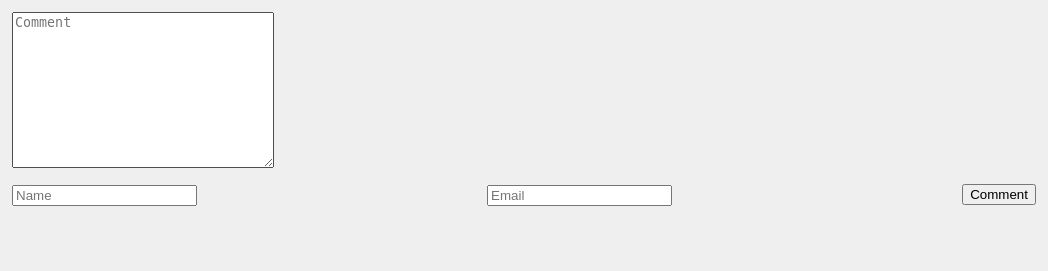
Test case: comments form › rendering errors when providing insufficient values
Type "random comment" into the text box with placeholder "Comment".
click(143, 90); type("random comment")  # box [12,12,274,168]
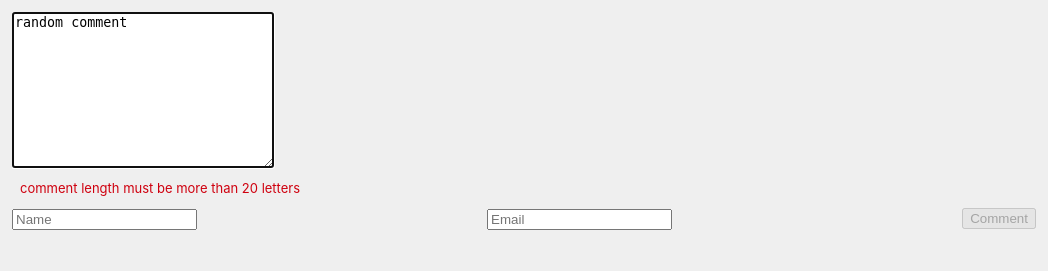
Now the text "comment length must be more than 20 letters" is shown, box [20,180,300,196]
Type "h" into the field with placeholder "Name".
click(104, 220); type("h")  # box [12,209,197,230]
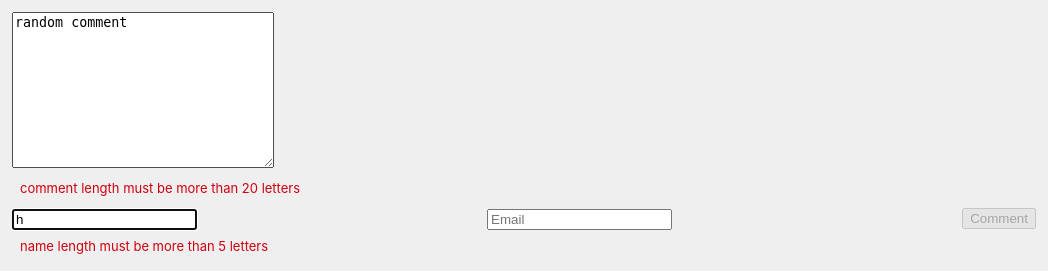
Now the text "name length must be more than 5 letters" is shown, box [20,238,268,254]
Type "bademail" into the field with placeholder "Email".
click(580, 220); type("bademail")  # box [487,209,672,230]
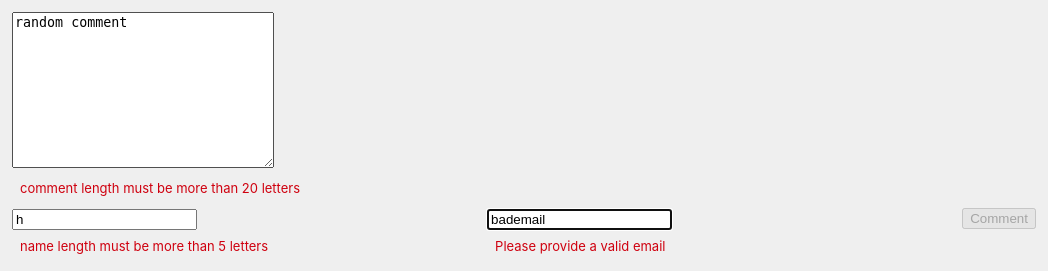
Now the text "Please provide a valid email" is shown, box [495,238,666,254]
